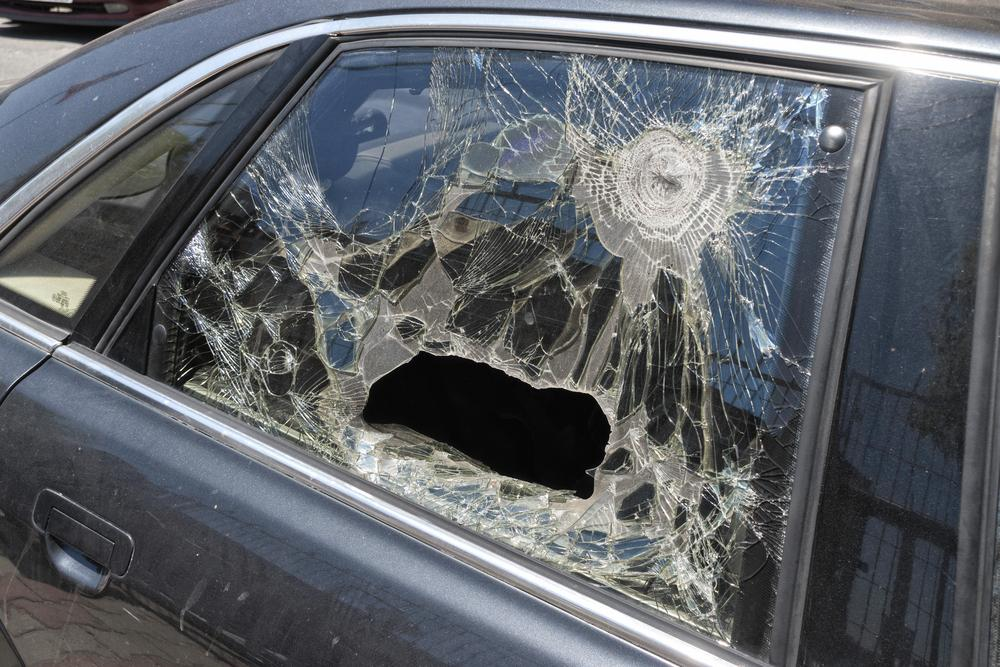glass shatter: (172, 47, 867, 666)
